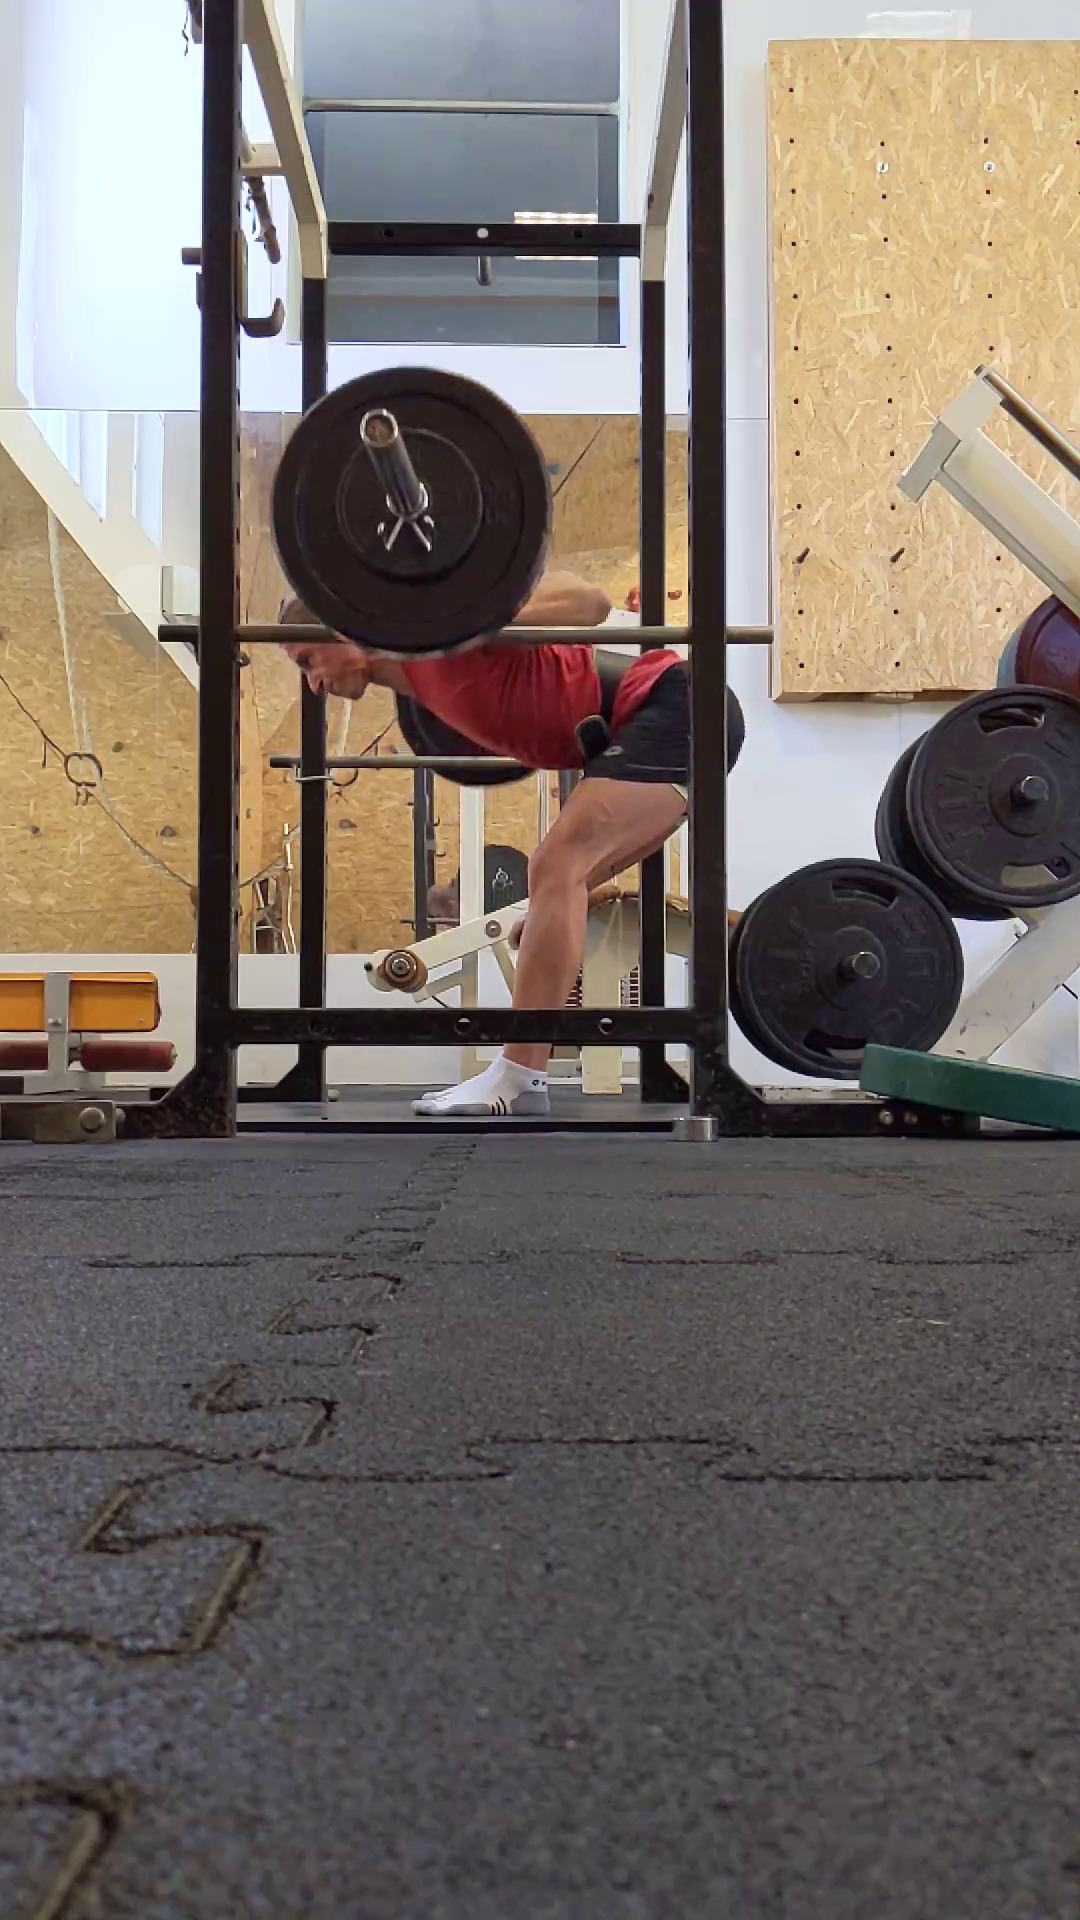barbell: (269, 364, 549, 650), (735, 858, 963, 1080), (906, 683, 1079, 909), (483, 843, 527, 914)
